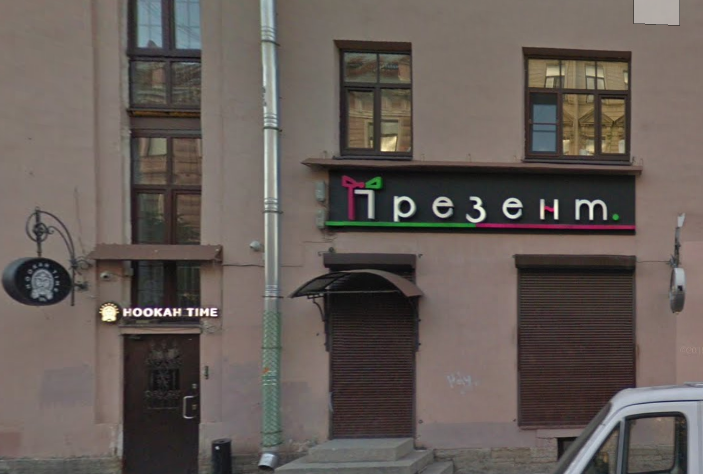cantilever: (1, 200, 82, 313), (666, 214, 690, 313)
door: (327, 294, 414, 440), (120, 334, 200, 472)
signboard: (328, 166, 631, 232), (94, 302, 226, 328)
window: (519, 269, 636, 424), (135, 1, 201, 244), (524, 50, 630, 159), (341, 45, 411, 154), (132, 262, 197, 324)
